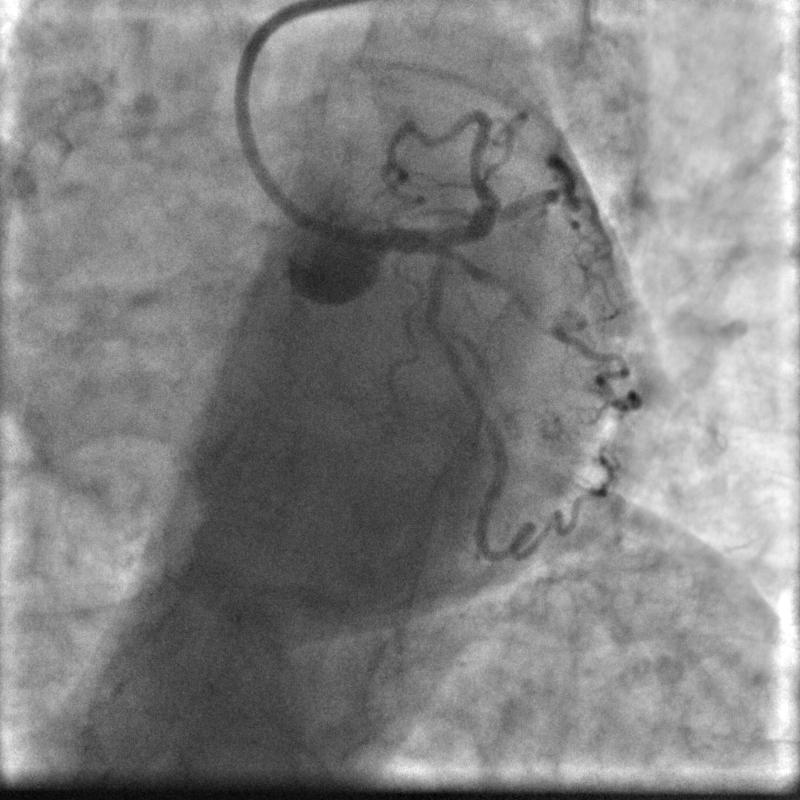Stenosis: (426, 314, 452, 340)
